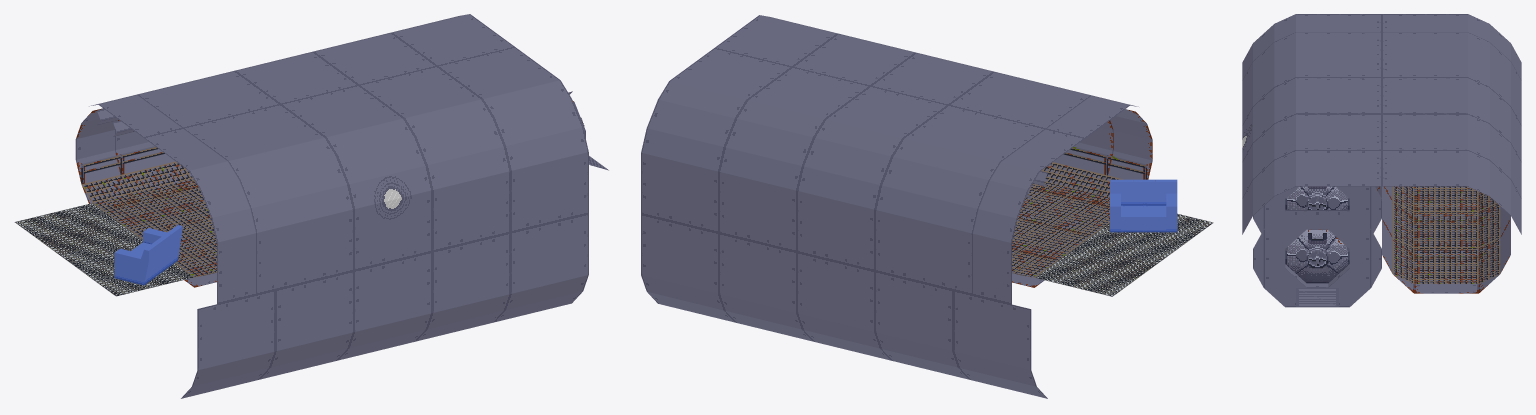
The picture shows the model from 3 angles, left to right: view 1: azimuth 30°, elevation 25°; view 2: azimuth 150°, elevation 25°; view 3: azimuth 270°, elevation 25°; orthographic projection. The views are drawn at different scales.
Visible parts, largest first — view 1: SubHull-1x4 (×6), SubHull-2x7, SubWallNoWin (×4), SubWallWin, Internal-2UJunct, Metal Floor, Couch; view 2: SubWallNoWin (×4), SubHull-1x4 (×6), SubHull-2x7, Internal-2UJunct, Metal Floor, Couch, SubWallWin; view 3: SubWallNoWin (×4), SubHull-2x7, Door_Wall (×2), SubWallWin, SubHull-1x4, Door (×2).
Boxes of the visible parts, x1,y1,x2,y2 form: SubHull-1x4 (×6): (181,47,588,398); SubHull-2x7: (89,71,353,303); SubWallNoWin (×4): (226,14,514,251); SubWallWin: (281,85,432,270); Internal-2UJunct: (75,108,216,287); Metal Floor: (14,203,193,296); Couch: (114,225,182,285); SubWallNoWin (×4): (641,34,947,270); SubHull-1x4 (×6): (641,15,1047,398); SubHull-2x7: (875,72,1138,304); Internal-2UJunct: (1012,109,1152,287); Metal Floor: (1035,213,1213,296); Couch: (1110,179,1177,232); SubWallWin: (871,53,1001,104); SubWallNoWin (×4): (1242,77,1521,293); SubHull-2x7: (1242,14,1521,125); Door_Wall (×2): (1253,186,1381,307); SubWallWin: (1242,77,1381,190); SubHull-1x4: (1242,150,1381,234); Door (×2): (1285,186,1349,283).
Bounding box in the file's own units: 25.5 × 11 × 13.
Materials: 1 (1 with a texture image).
